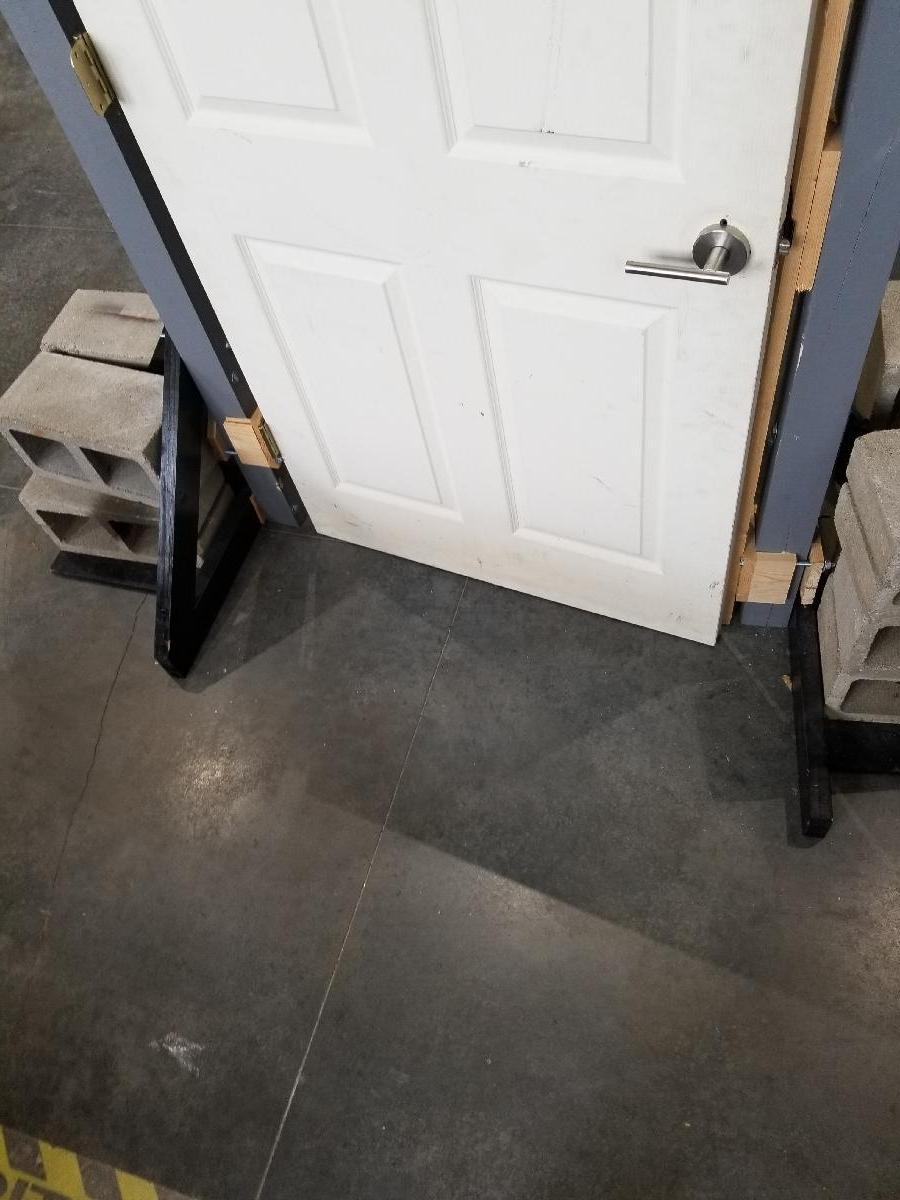door: (261, 0, 764, 593)
handle: (622, 223, 756, 290)
